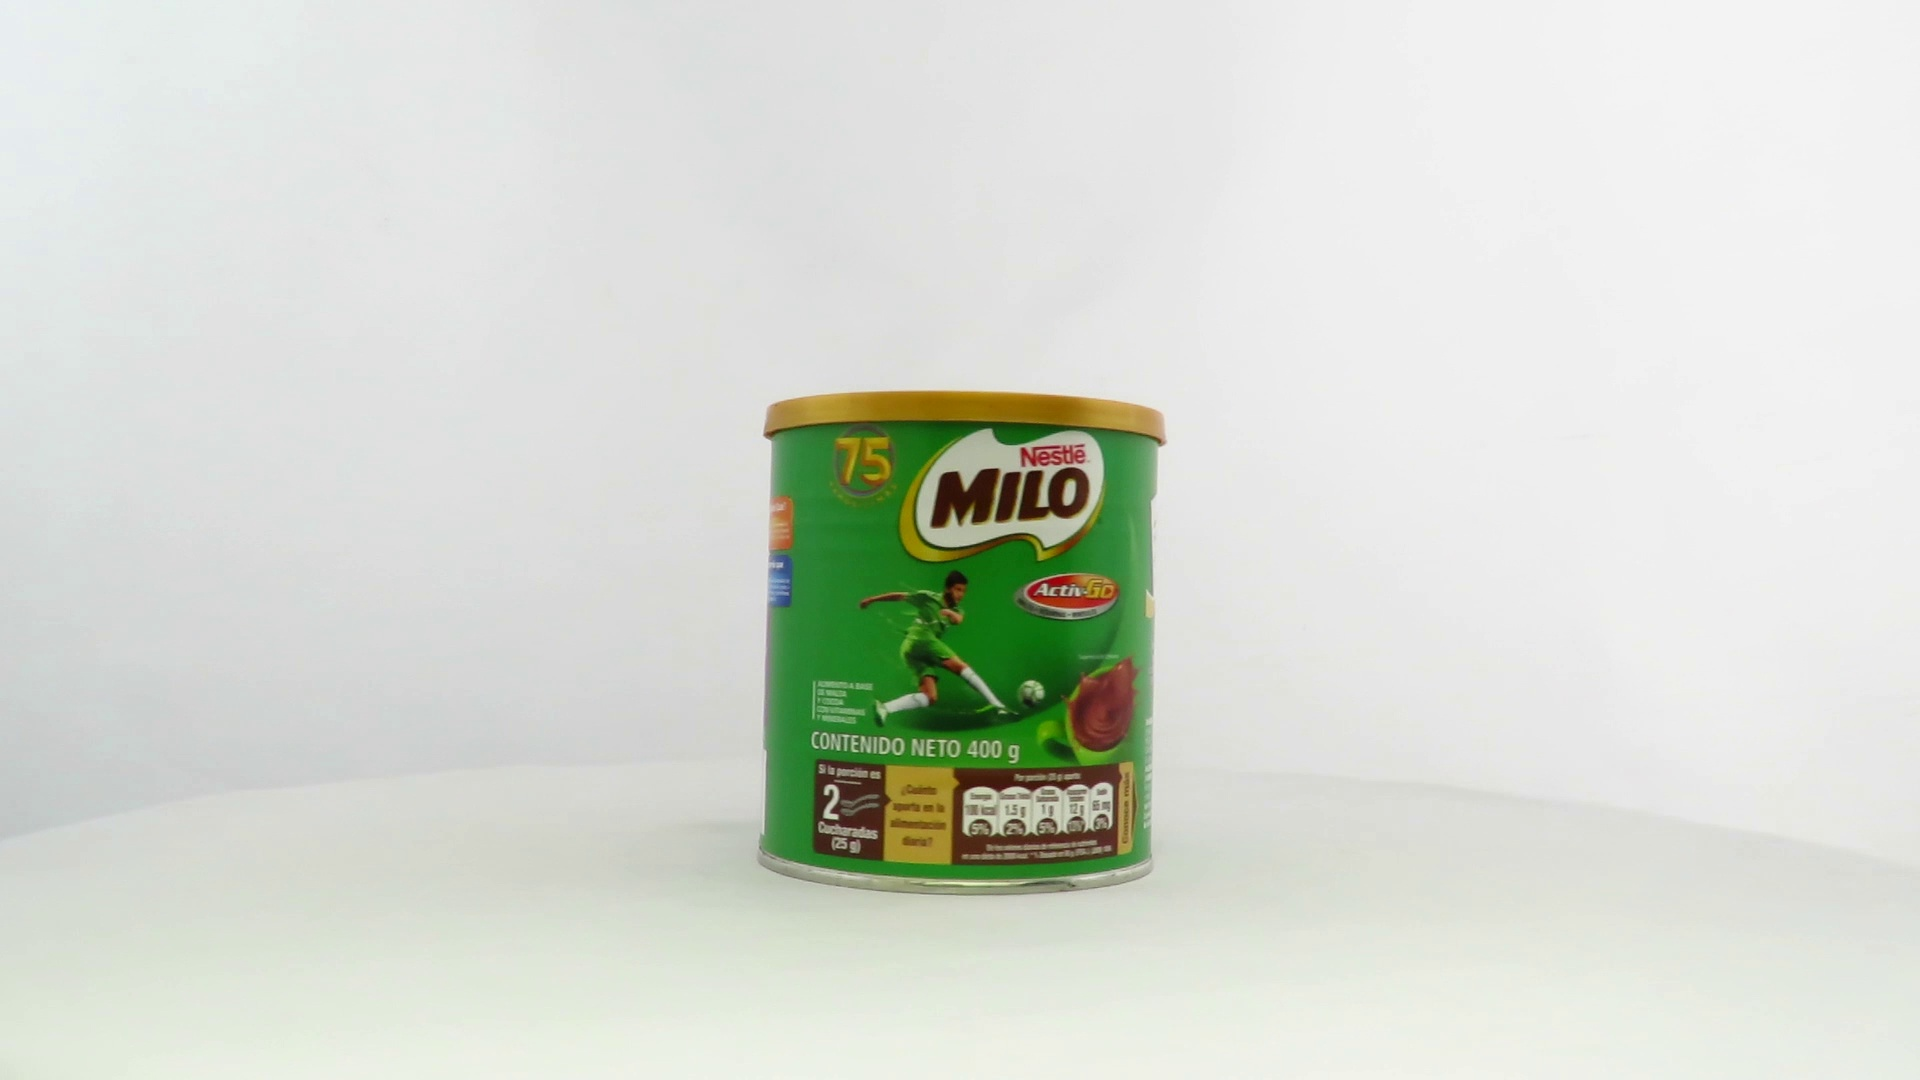COL0170203LAT40000: (752, 385, 1174, 902)
